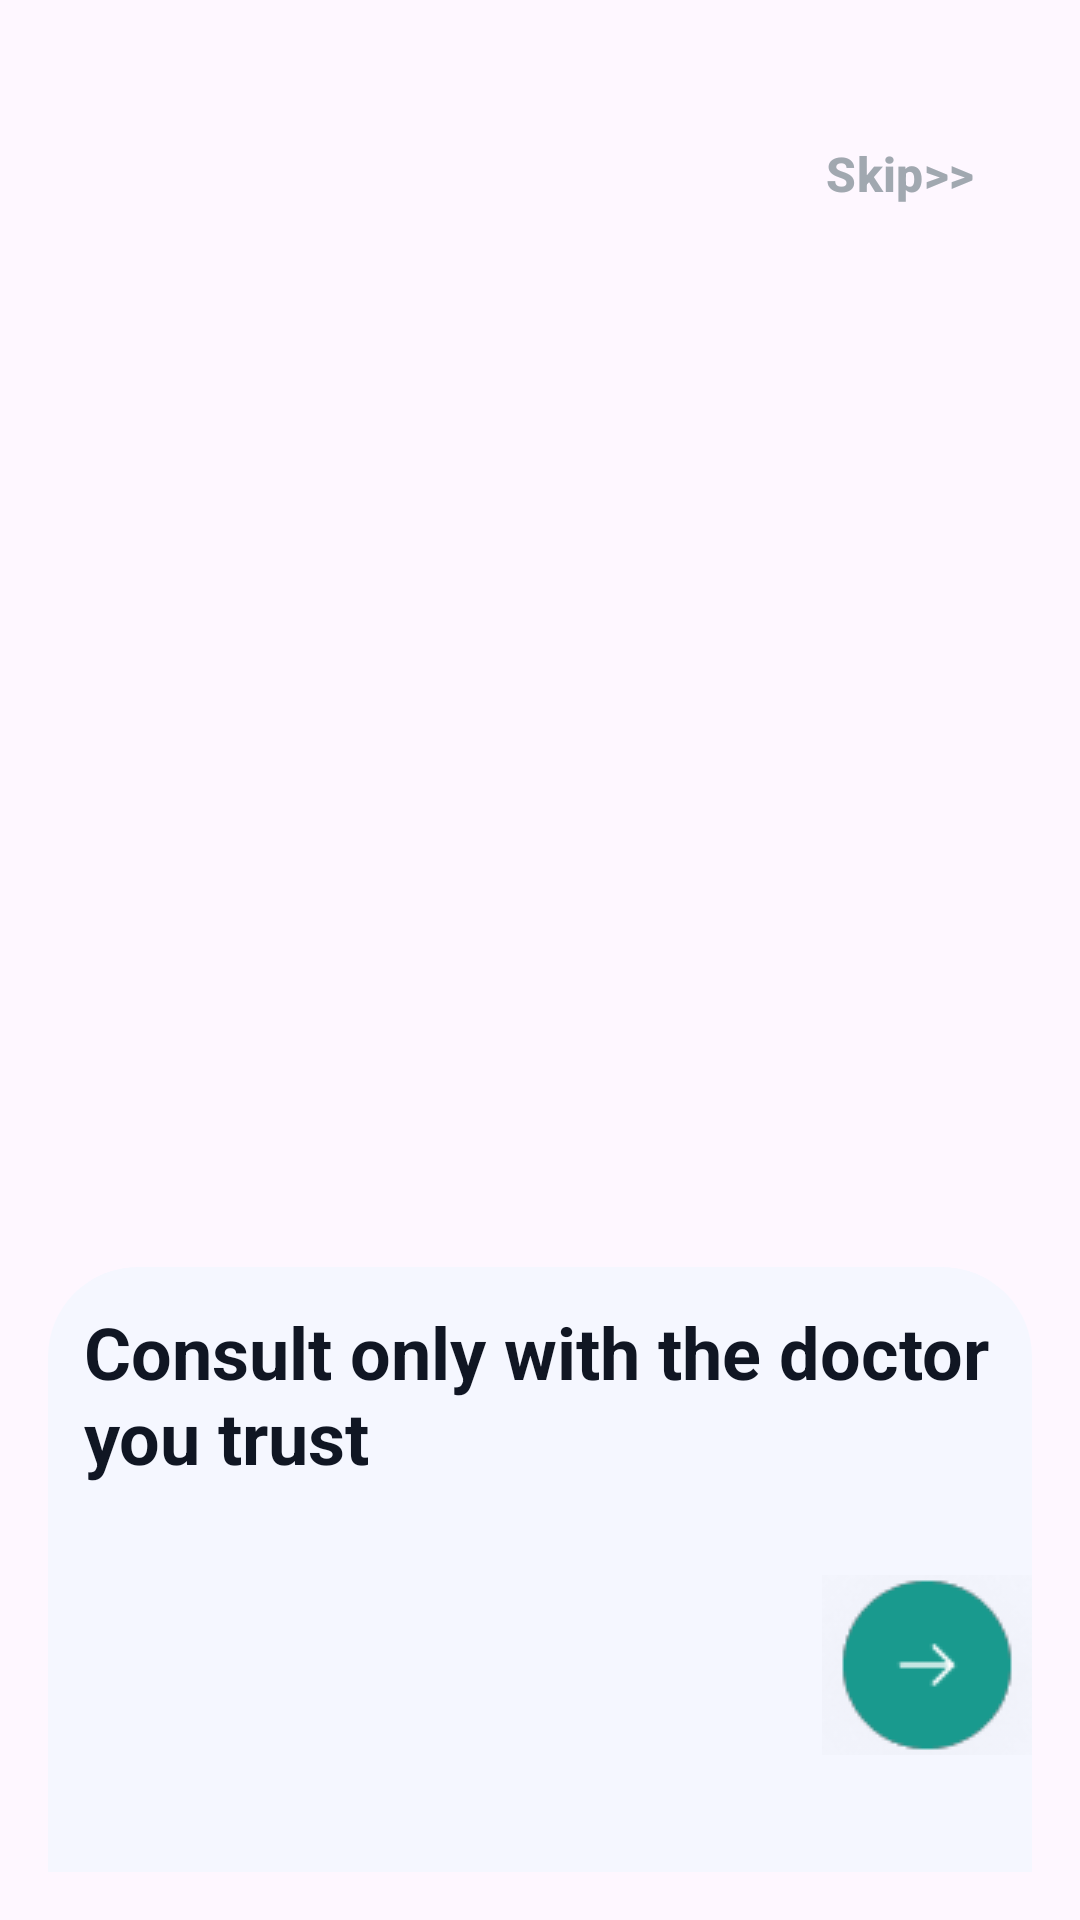

Named icons in this screenshot (1080 x 1920) and their centers, [x,y]:
forward: [927,1665]
